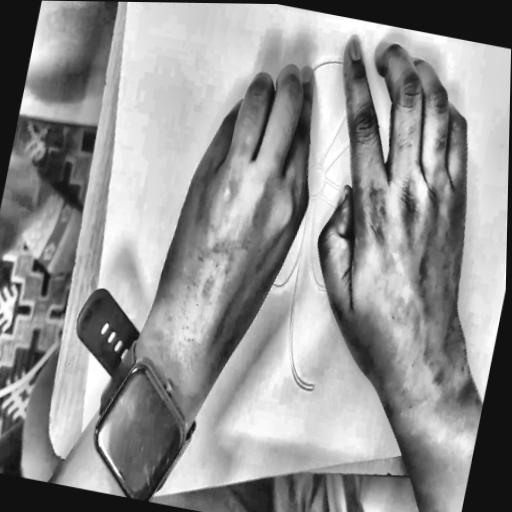flower: (222, 42, 408, 430)
